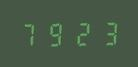nine: (43, 20, 67, 47)
seven: (18, 20, 42, 47)
three: (93, 19, 117, 46)
two: (68, 20, 92, 46)
